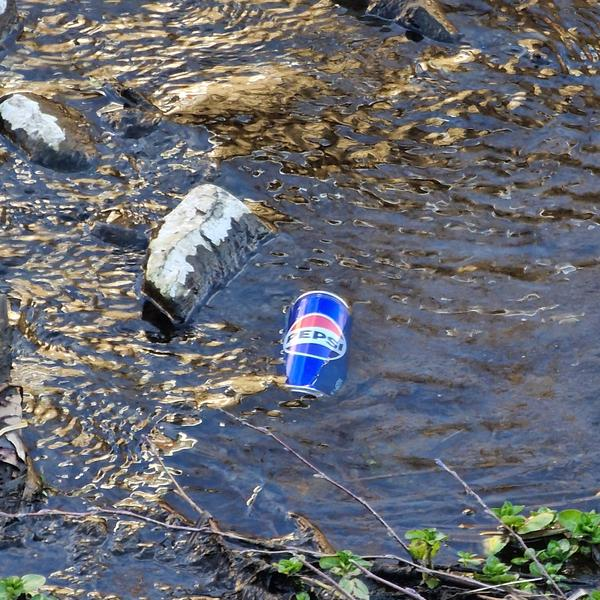can: (274, 285, 363, 402)
